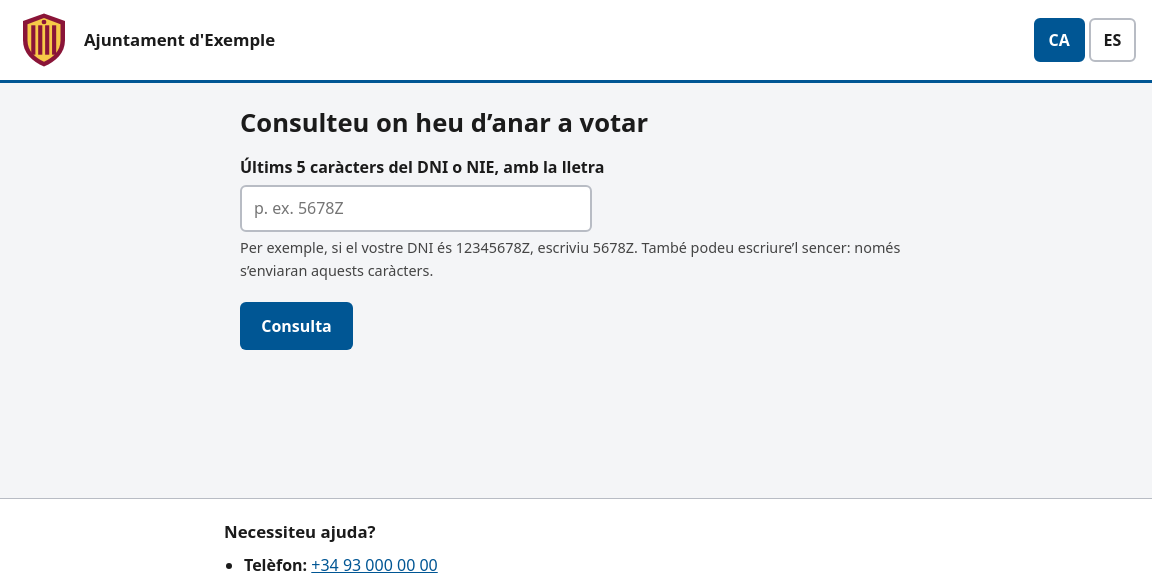
Test case: flux complet de consulta › «Canvia» torna editable una dada ja contestada
In the field labelled "Últims 5 caràcters del DNI o NIE, amb la lletra": (416, 209) [240, 185, 592, 232], type "12345678Z"
Click the button "Consulta": (296, 326) [240, 302, 353, 350]
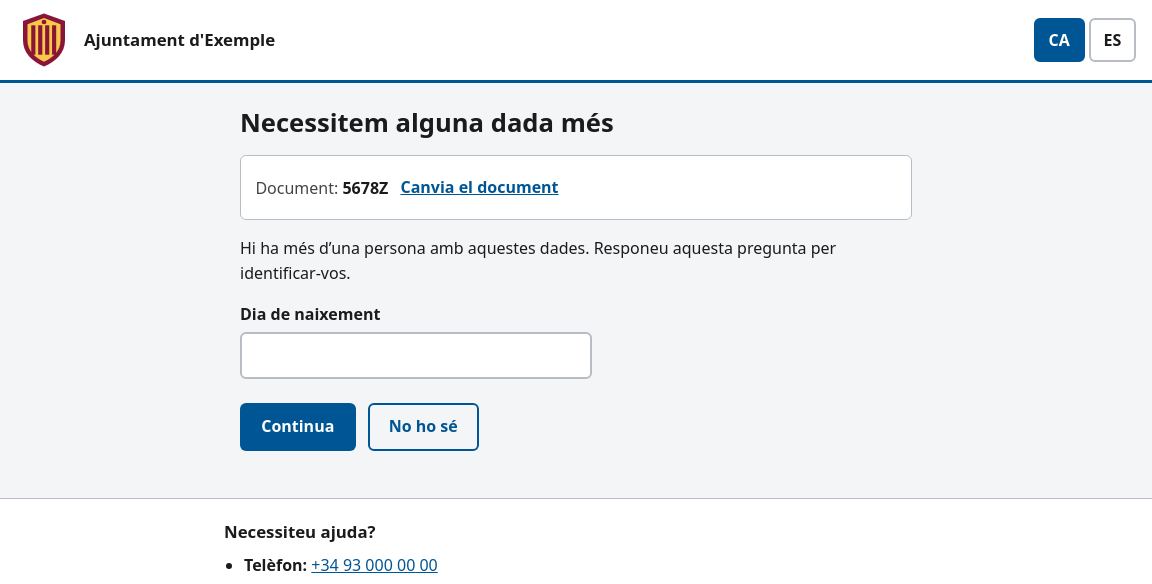
In the field labelled "Dia de naixement": (416, 355) [240, 332, 592, 379], type "5"
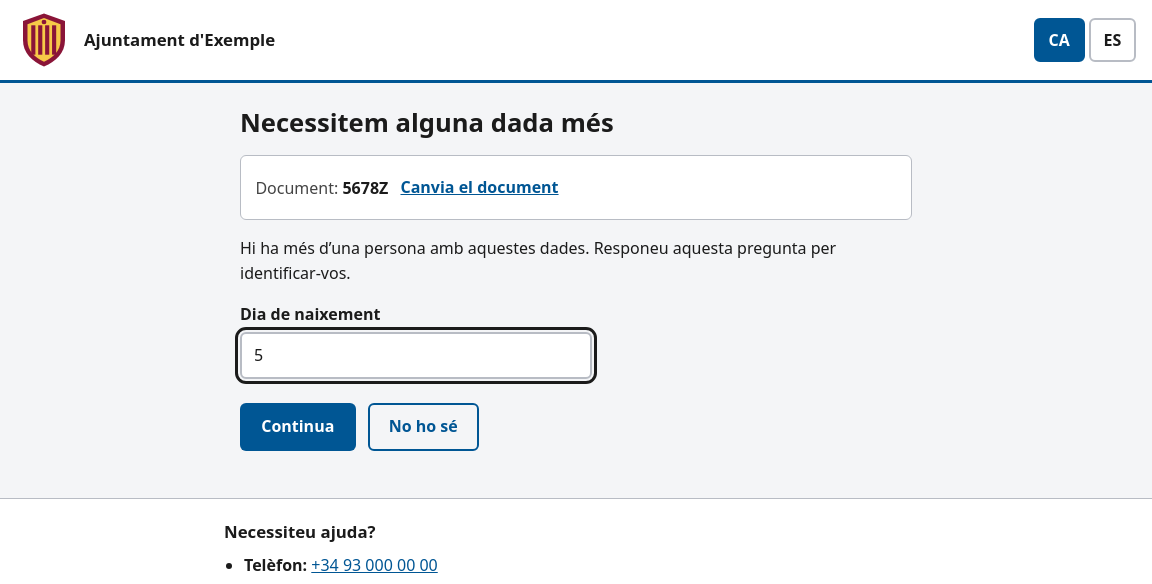
Click the button "Continua": (298, 426) [240, 402, 356, 450]
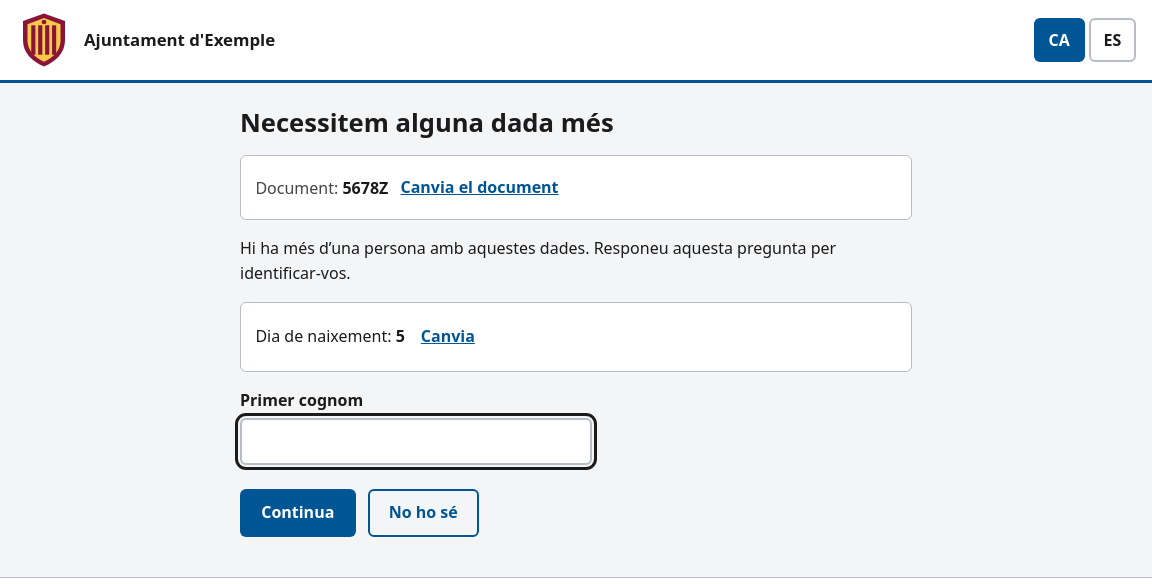
Check: the field labelled "Primer cognom" is shown, box [240, 418, 592, 464]
Click the button with aria-label "Canvia: Dia de naixement": (448, 337) [413, 315, 483, 359]
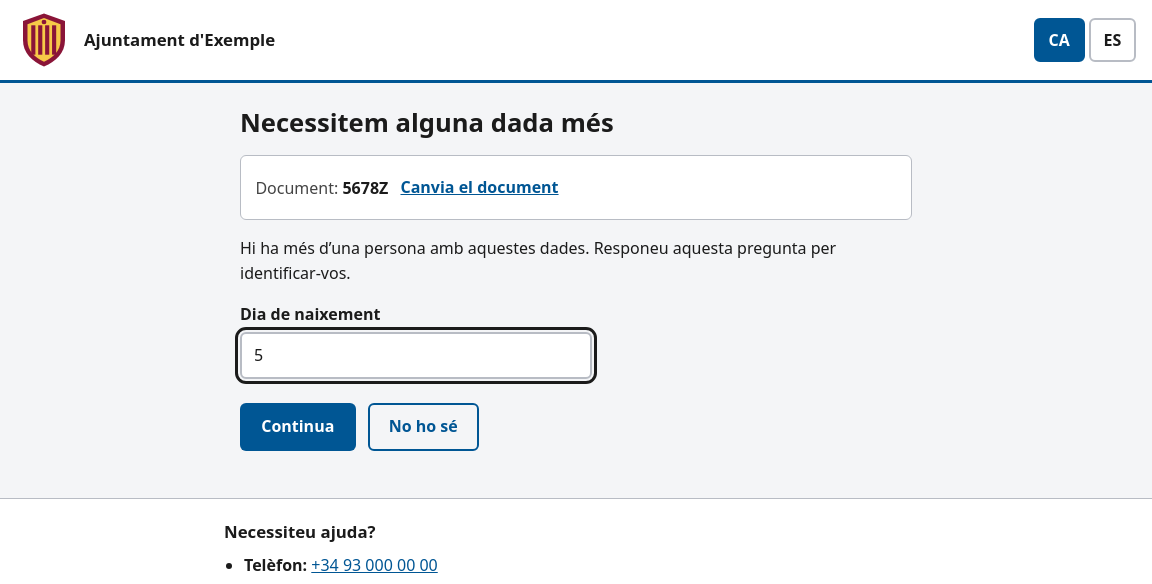
Replace the text in the field labelled "Dia de naixement" with "7": (416, 355) [240, 332, 592, 379]
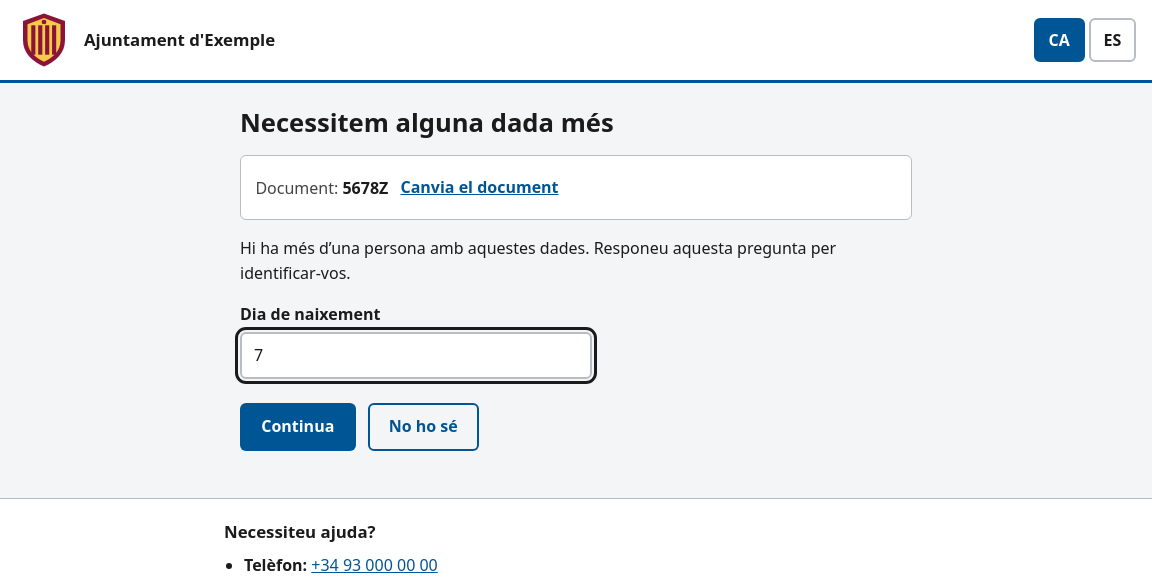
Click the button "Continua": (298, 426) [240, 402, 356, 450]
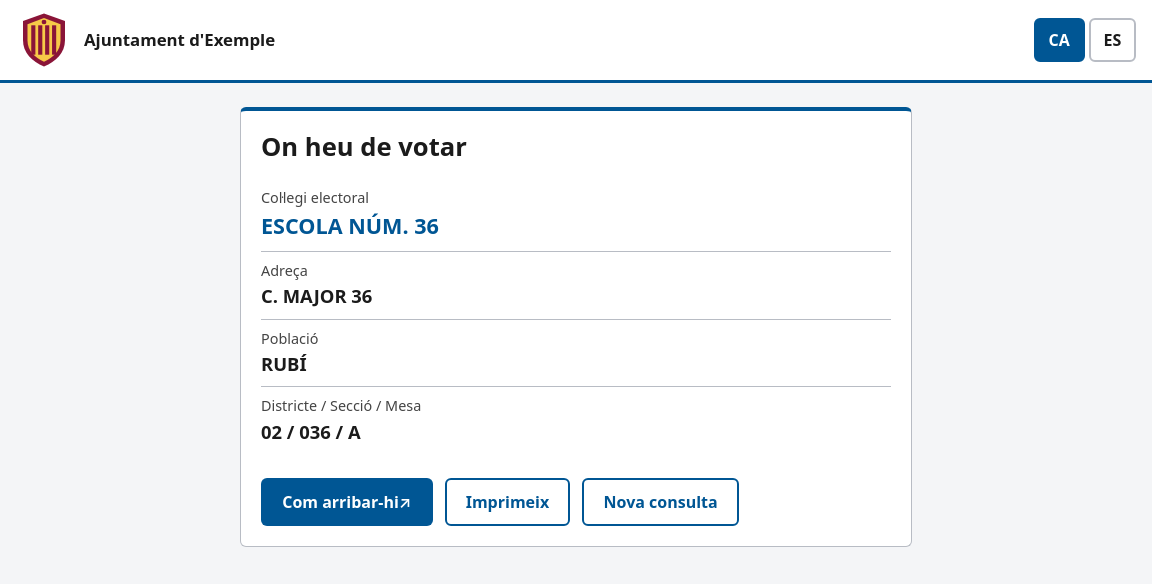
Check: the text "ESCOLA NÚM. 36" is shown, box [261, 211, 439, 240]
